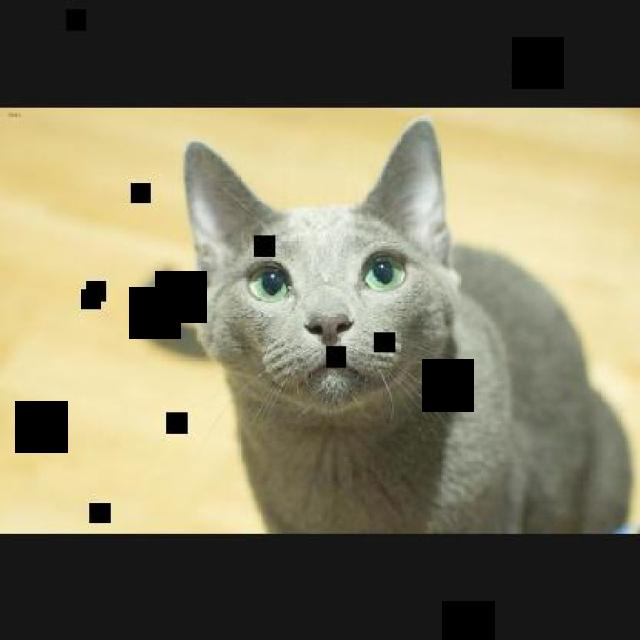unauthorized: (178, 115, 634, 534)
